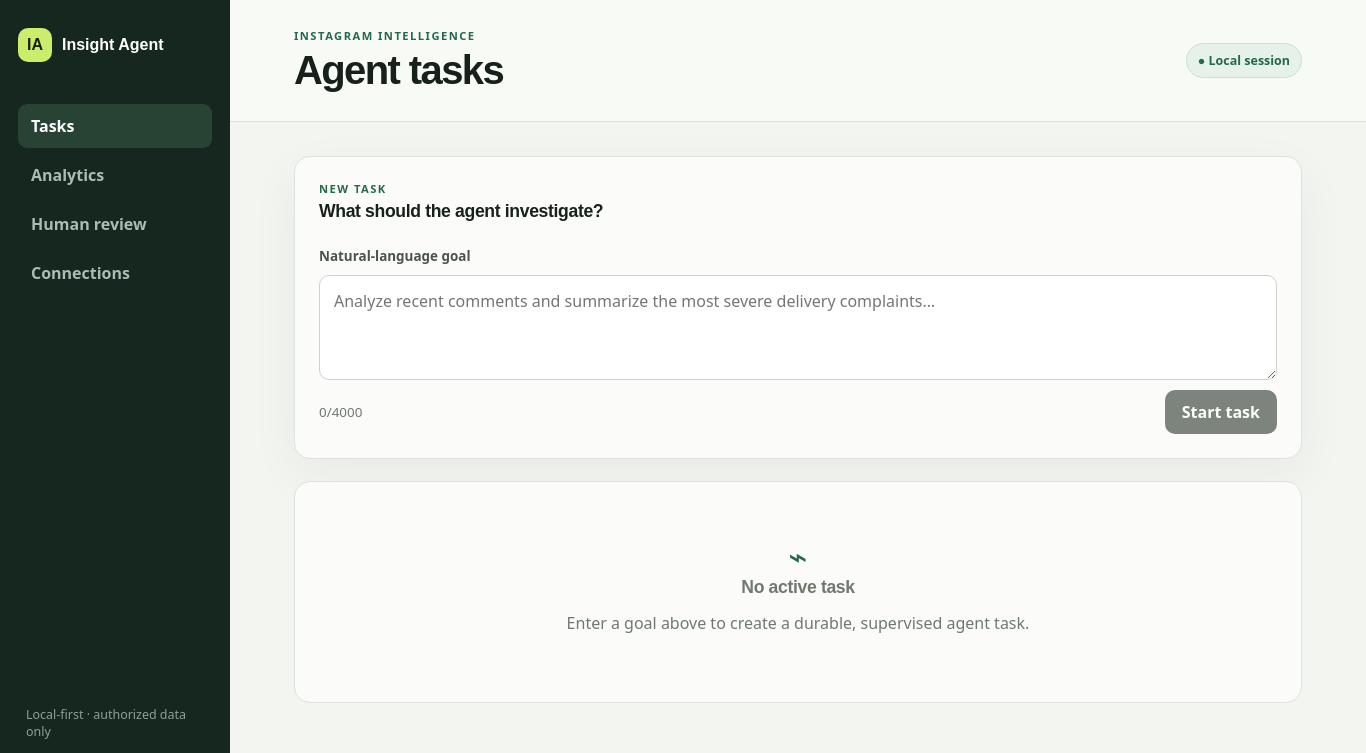
Test case: dashboard › validates empty input, prevents duplicate clicks, and shows success
Expected: the button "Start task" is disabled, [1165,390,1277,434]
In the text box labelled "Natural-language goal": (798, 327) [319,275,1277,380], type "Analyze comments"
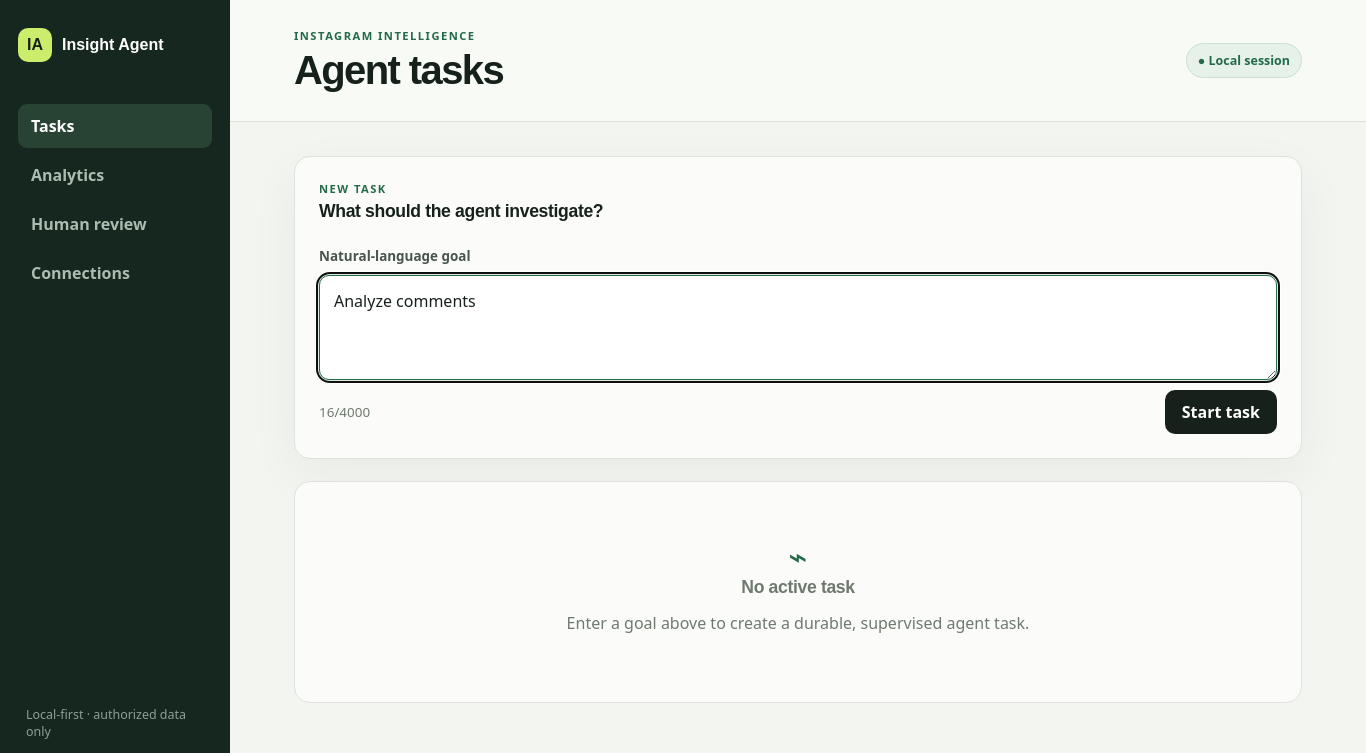
Double-click the button "Start task": (1221, 412) [1165,390,1277,434]
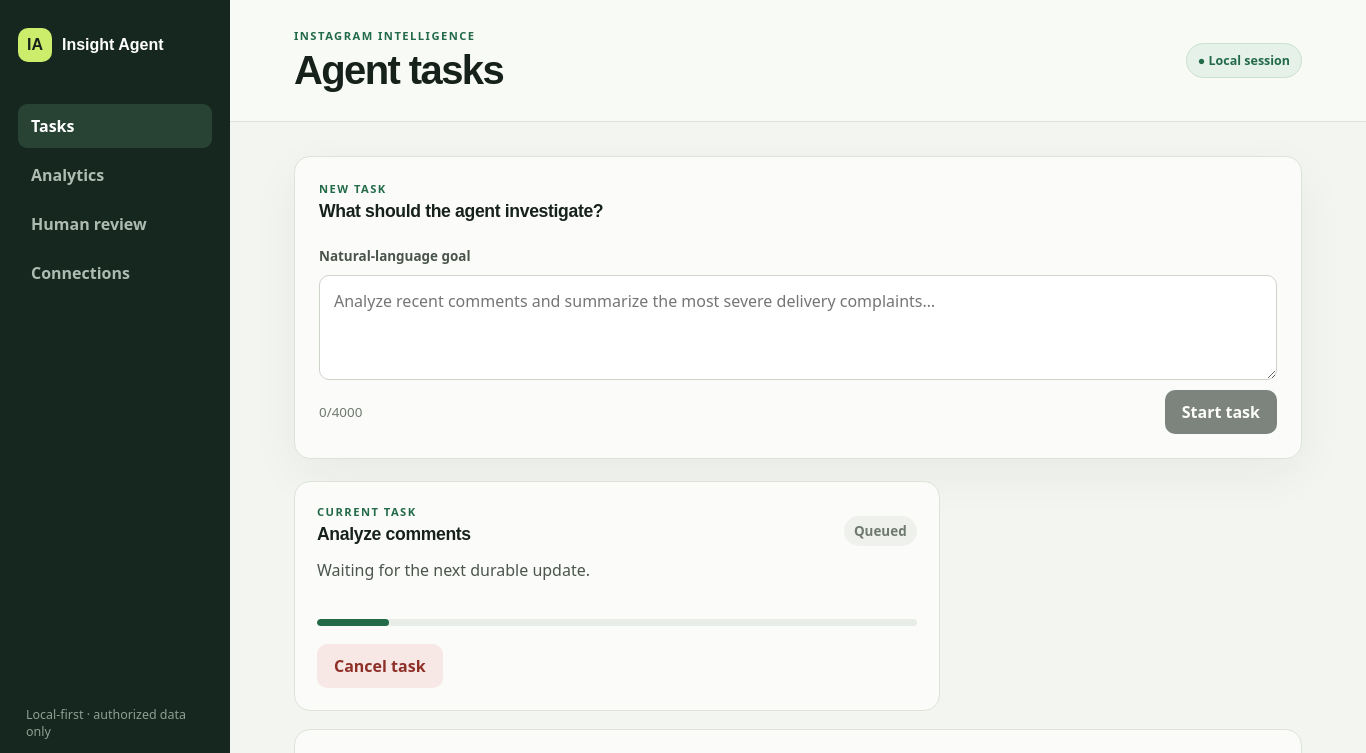
Result: the button "Start task" is disabled at [1165,390,1277,434]
Result: the text "Queued" is shown at [844,516,917,546]
